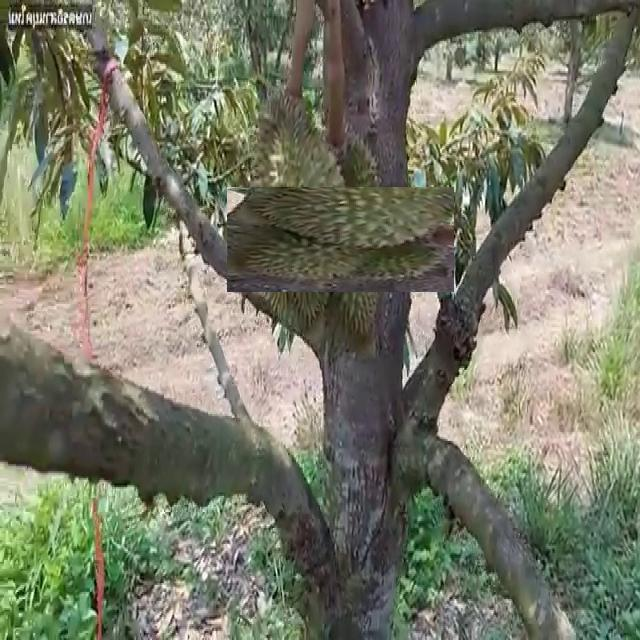durian: (257, 156, 423, 323), (246, 81, 351, 340)
